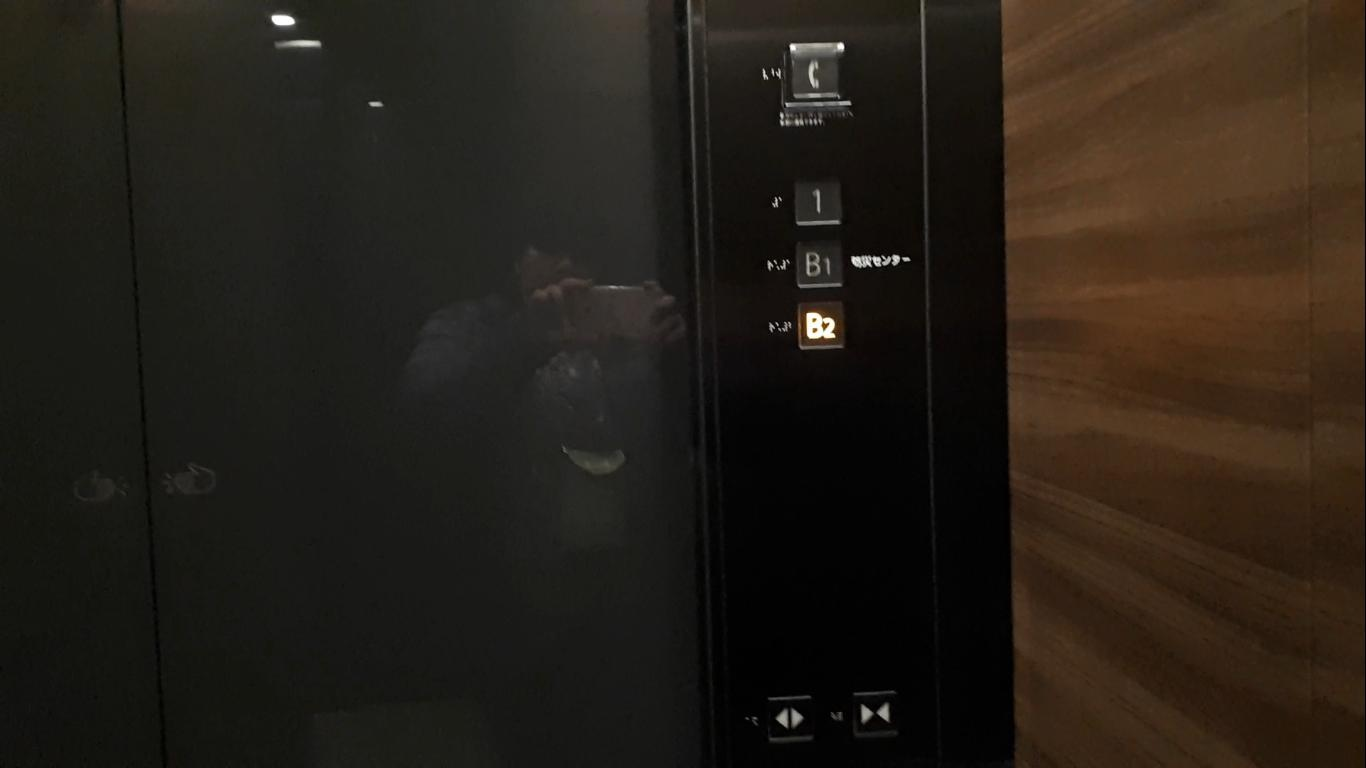1: (791, 178, 844, 229)
B1: (793, 240, 845, 289)
B2: (795, 301, 847, 352)
call: (782, 42, 855, 111)
close: (850, 690, 900, 739)
open: (764, 695, 815, 744)
